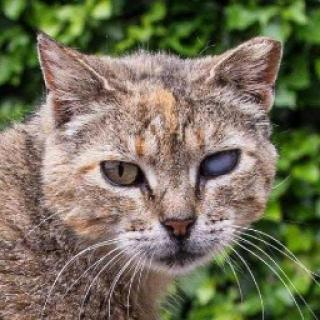cat: (30, 25, 285, 288)
nose: (150, 202, 202, 246)
